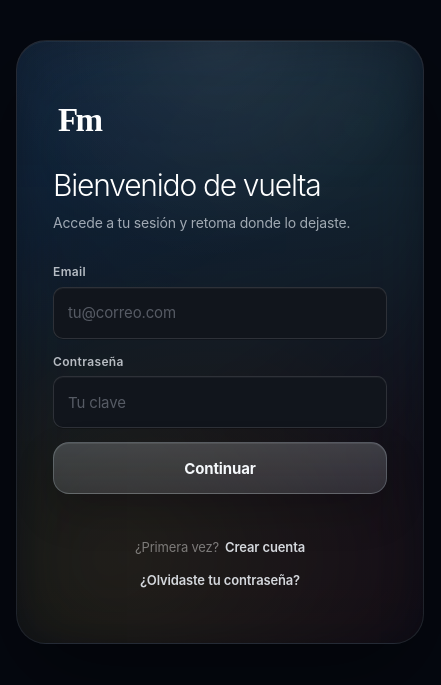
Test: LoginPage › shows validation errors for invalid input
Click the button "Continuar" at point(220, 468), box [53,442,387,494]
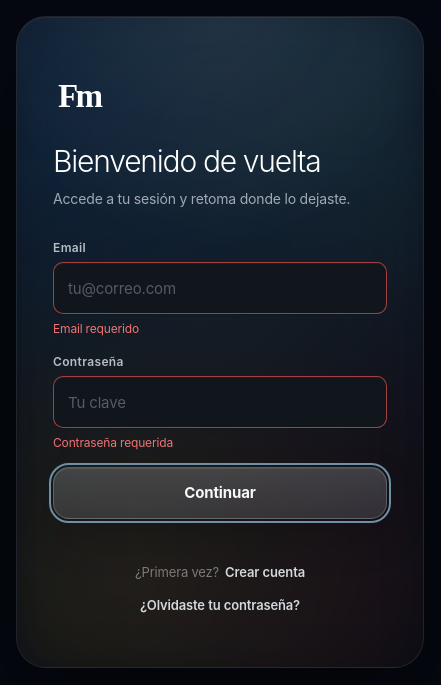
Now the text "Email requerido" is shown, box [53,321,139,336]
